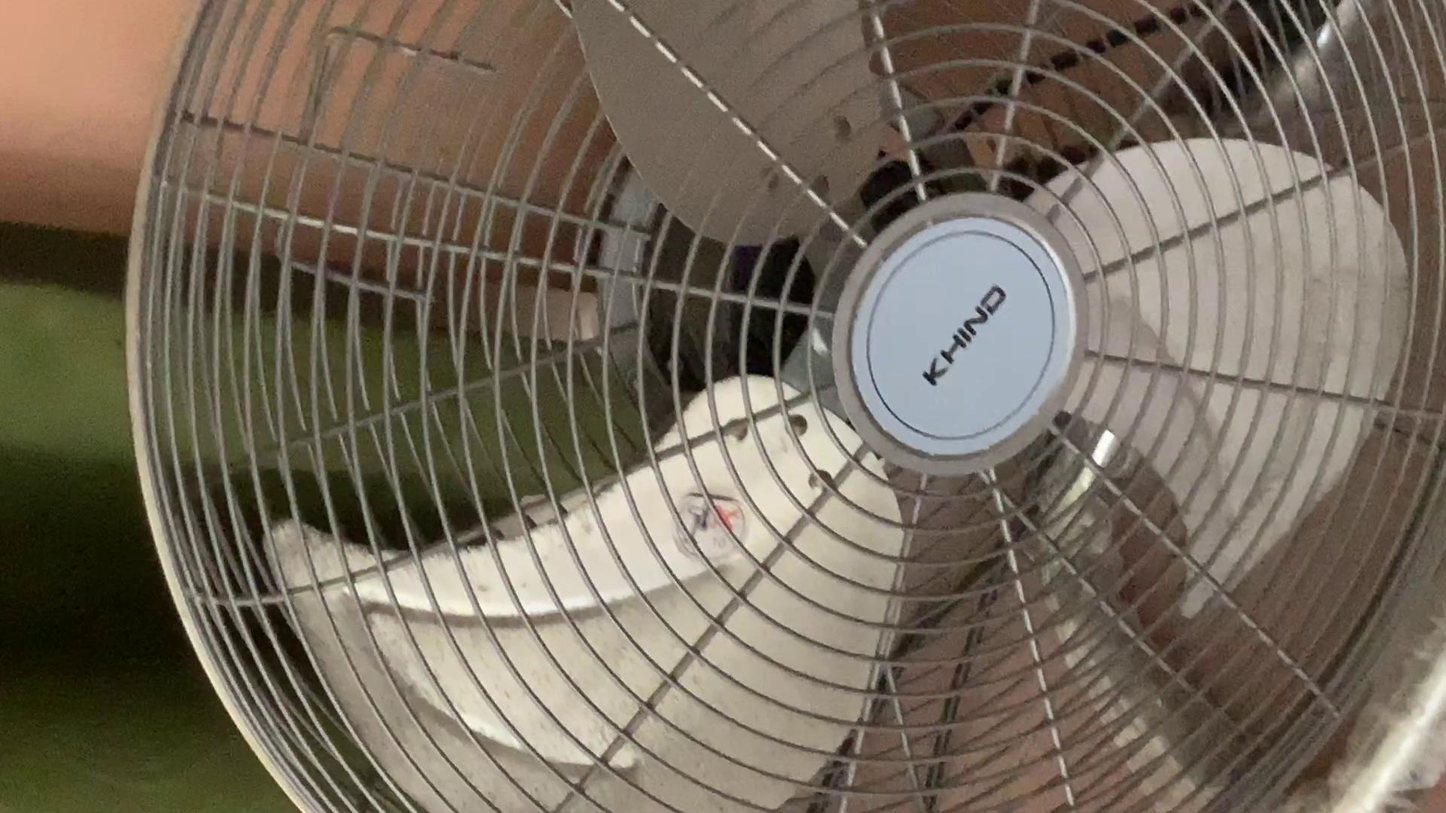fan: (126, 0, 1446, 813)
